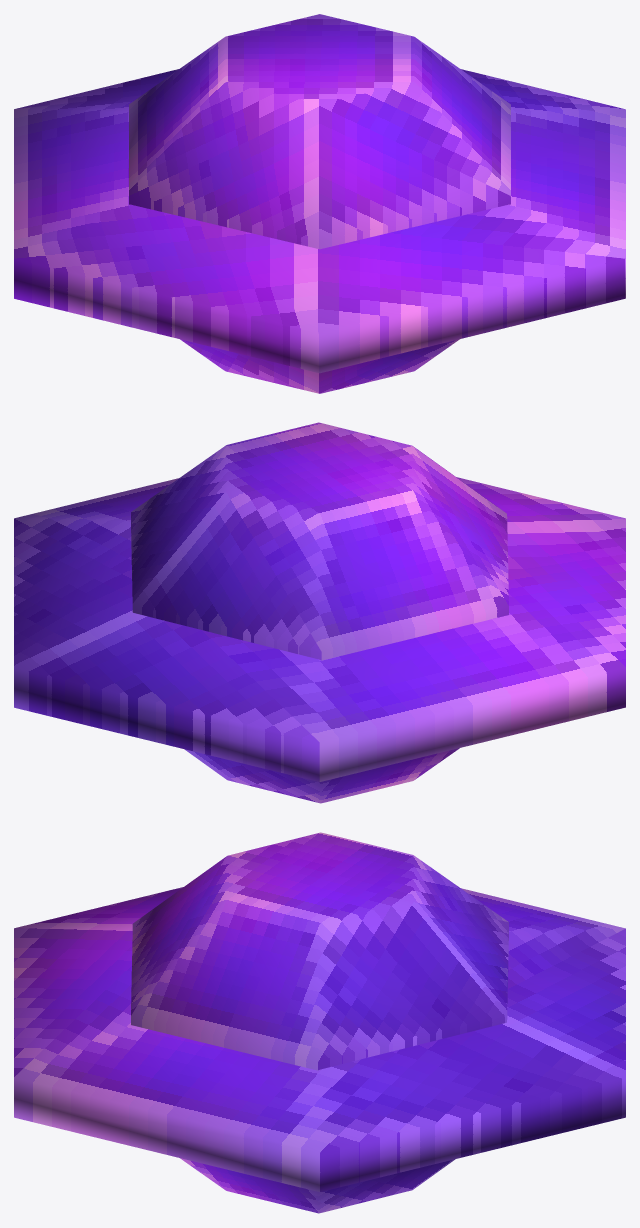
File: SocketGem.glb
3 views of the same model, one above another, from view 1: azimuth 30°, elevation 25°; view 2: azimuth 150°, elevation 25°; view 3: azimuth 270°, elevation 25° (orthographic).
Visible parts, largest first — view 1: model_SocketGem; view 2: model_SocketGem; view 3: model_SocketGem.
Boxes of the visible parts, box(x1,y1,x2,y2) form: model_SocketGem: box(14, 14, 625, 393); model_SocketGem: box(14, 422, 625, 803); model_SocketGem: box(14, 832, 625, 1213).
Bounding box in the file's own units: 0.267 × 0.1207 × 0.2313.
Materials: 1 (1 with a texture image).
